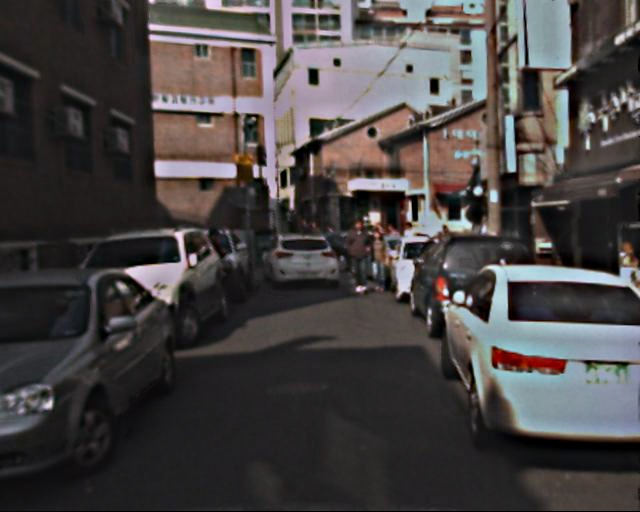person: (343, 219, 374, 295), (366, 232, 391, 293)
